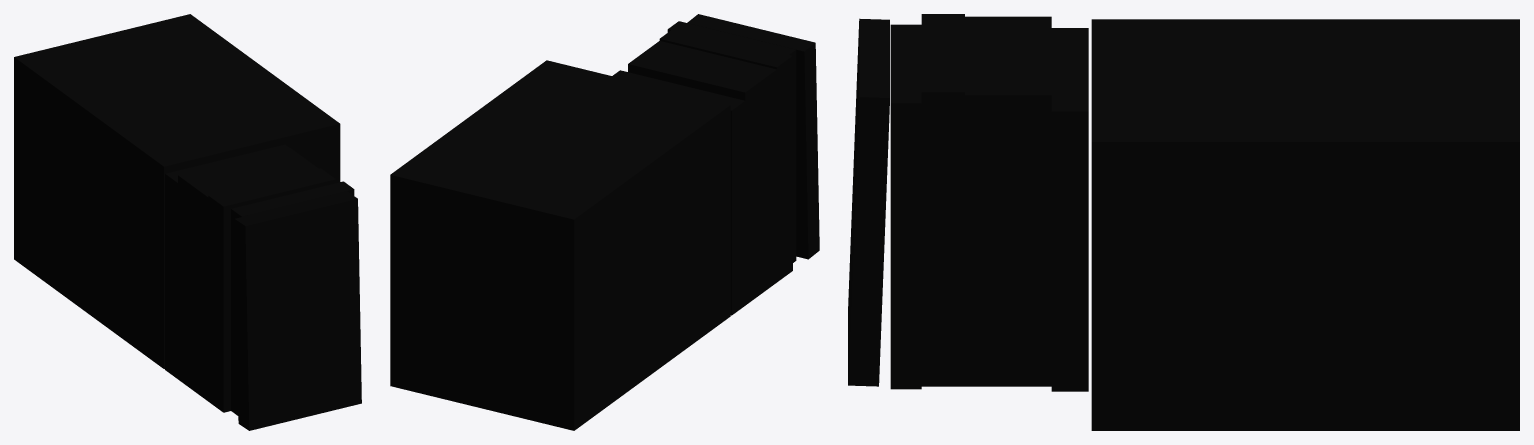
3 renders of one model, left to right at view 1: azimuth 30°, elevation 25°; view 2: azimuth 150°, elevation 25°; view 3: azimuth 270°, elevation 25°, orthographic. The views are drawn at different scales.
Visible parts, largest first — view 1: Joint_0_Object_0, Joint_0_Object_1; view 2: Joint_0_Object_0, Joint_0_Object_1; view 3: Joint_0_Object_1, Joint_0_Object_0.
Part boxes in pixels (box(x1,y1,x2,y2)): Joint_0_Object_0: box(14, 57, 361, 430); Joint_0_Object_1: box(14, 14, 340, 368); Joint_0_Object_0: box(390, 14, 819, 430); Joint_0_Object_1: box(390, 60, 730, 219); Joint_0_Object_1: box(1091, 19, 1519, 430); Joint_0_Object_0: box(848, 14, 1088, 391).
Bounding box in the file's own units: 470 × 525 × 1086.
Materials: 2 (2 with a texture image).
